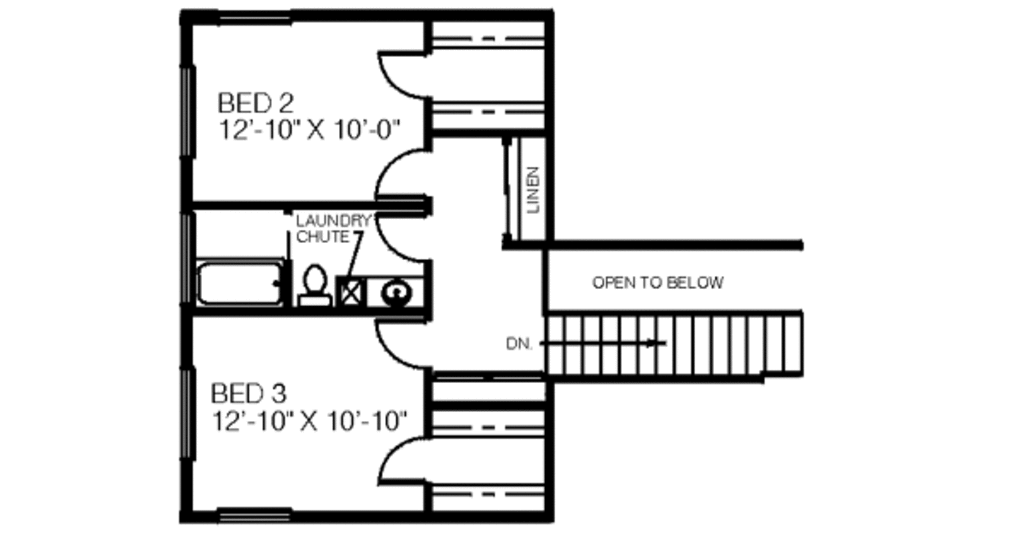door: (368, 206, 434, 268), (366, 144, 439, 199), (370, 48, 442, 101), (374, 315, 434, 371), (370, 433, 428, 478)
large_sink: (298, 253, 335, 311)
small_sink: (368, 276, 429, 313)
stairs: (536, 309, 809, 387)
tub: (189, 254, 292, 312)
window: (172, 57, 202, 162), (218, 4, 296, 28), (217, 504, 292, 528), (178, 368, 194, 462)
